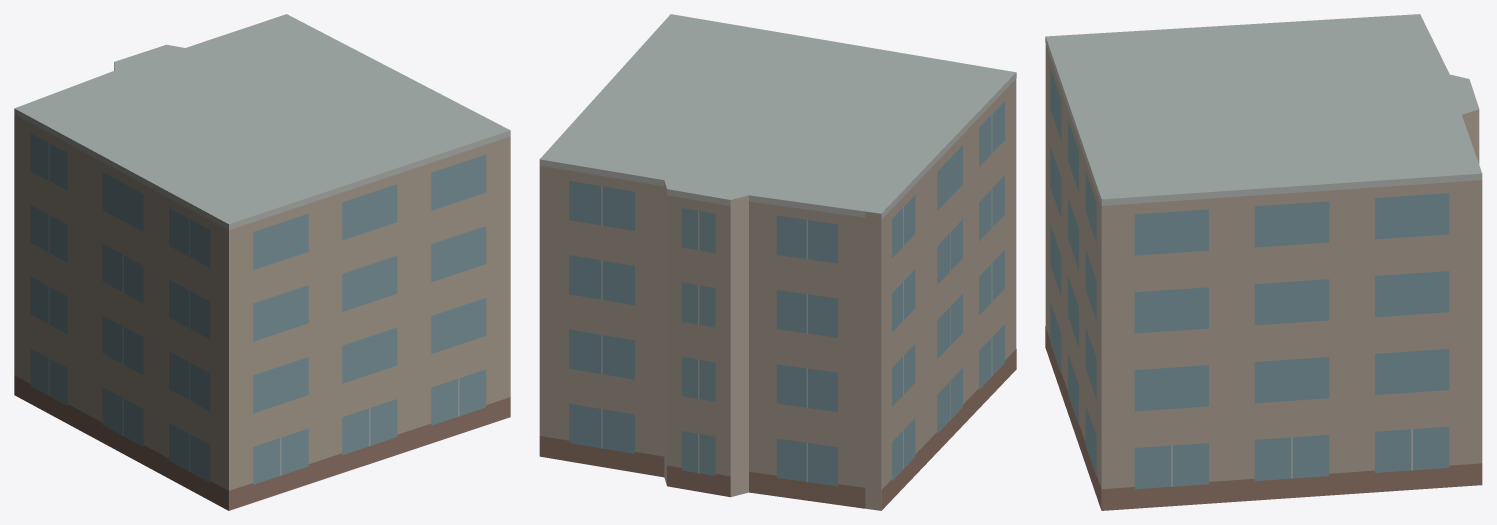
Rendered from survey-upis-32699439.glb.
3 renders of one model, left to right at view 1: azimuth 30°, elevation 25°; view 2: azimuth 150°, elevation 25°; view 3: azimuth 270°, elevation 25°, orthographic. The views are drawn at different scales.
Parts seen in each view (by area): view 1: survey-upis-32699439.tmp; view 2: survey-upis-32699439.tmp; view 3: survey-upis-32699439.tmp.
Part boxes in pixels (box(x1,y1,x2,y2)): survey-upis-32699439.tmp: box(14, 14, 510, 510); survey-upis-32699439.tmp: box(539, 14, 1016, 510); survey-upis-32699439.tmp: box(1045, 14, 1482, 510).
Size of the model in its own units: 14.95 by 11.7 by 14.88.
